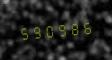eight: (70, 18, 82, 37)
five: (17, 23, 29, 42)
nine: (30, 22, 42, 41), (57, 19, 69, 38)
six: (83, 17, 95, 36)
zero: (44, 21, 56, 39)
